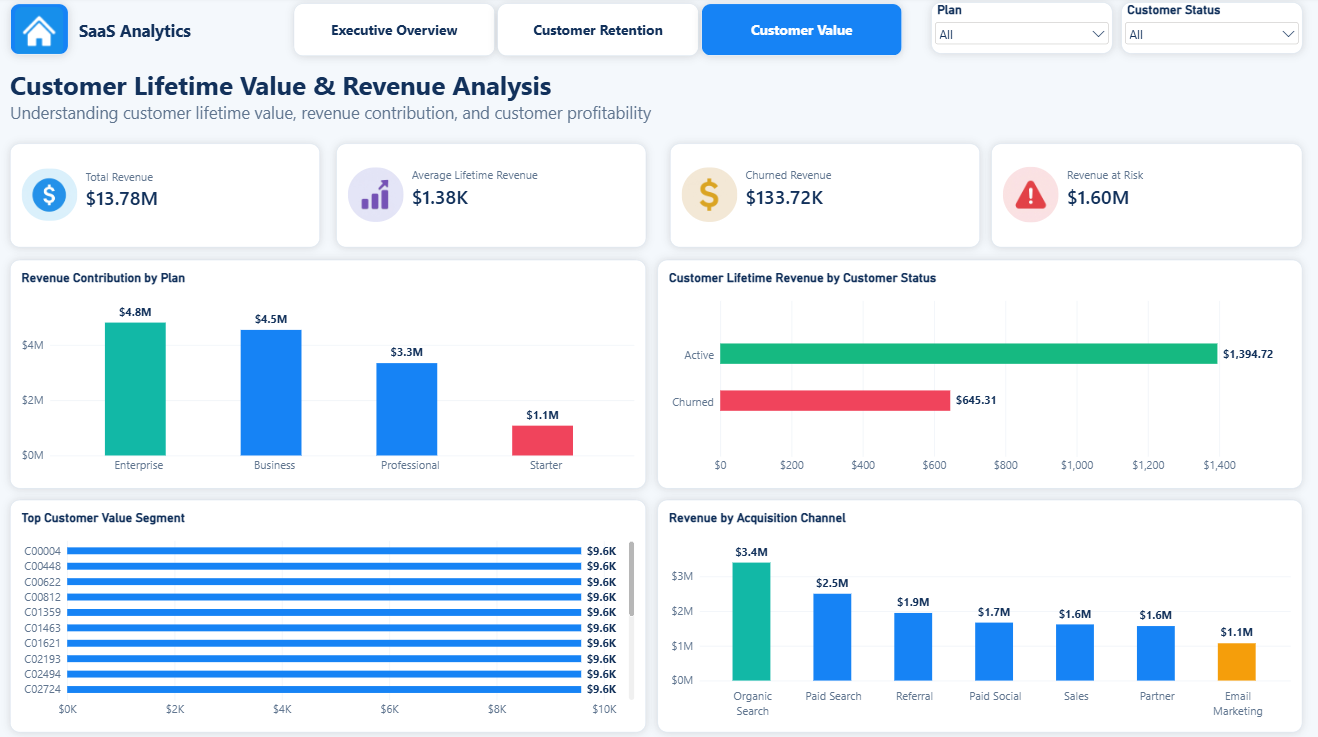

This screenshot's page, from the dashboard's own definition file:
{"tool":"powerbi","page":{"name":"Customer Value","canvas":[1920,1080],"ordinal":3},"visuals":[{"type":"textbox","box":[21.7,103.2,1871.2,94.1],"z":0},{"type":"cardVisual","fields":{"Data":["measures_table.Total Revenue"]},"box":[21.7,213.5,448.8,150.2],"z":1000},{"type":"cardVisual","fields":{"Data":["measures_table.Average Lifetime Revenue"]},"box":[494,213.5,448.8,150.2],"z":2000},{"type":"cardVisual","fields":{"Data":["measures_table.Churned Revenue"]},"box":[977.2,213.5,448.8,150.2],"z":3000},{"type":"cardVisual","fields":{"Data":["measures_table.Revenue at Risk"]},"box":[1442.3,213.5,450.6,150.2],"z":4000},{"type":"clusteredColumnChart","title":"Revenue Contribution by Plan","fields":{"Category":["dim_plan.plan_name"],"Y":["measures_table.Total Revenue"]},"box":[21.7,381.8,921.1,331.2],"z":5000},{"type":"clusteredBarChart","title":"Customer Lifetime Revenue by Customer Status","fields":{"Category":["dim_customer.customer_status"],"Y":["measures_table.Average Lifetime Revenue"]},"box":[959.1,381.8,933.8,331.2],"z":6000},{"type":"clusteredBarChart","title":"Top Customer Value Segment","fields":{"Category":["dim_customer.customer_id"],"Y":["measures_table.Total Lifetime Revenue"]},"box":[21.7,729.3,921.1,336.6],"z":7000},{"type":"clusteredColumnChart","title":"Revenue by Acquisition Channel","fields":{"Category":["dim_customer.acquisition_channel"],"Y":["measures_table.Total Revenue"]},"box":[959.1,729.3,933.8,336.6],"z":8000},{"type":"slicer","title":"Plan","fields":{"Values":["dim_customer.customer_status"]},"box":[1630.5,9,262.4,74.2],"z":9000},{"type":"slicer","title":"Plan","fields":{"Values":["dim_plan.plan_name"]},"box":[1355.4,9,262.4,74.2],"z":10000},{"type":"actionButton","box":[432.5,10.9,291.4,76],"z":11000},{"type":"actionButton","box":[727.5,10.9,291.4,76],"z":12000},{"type":"actionButton","box":[1022.5,10.9,291.4,76],"z":13000},{"type":"textbox","box":[121.2,34.4,278.7,48.9],"z":14000},{"type":"actionButton","box":[21.7,10.9,85.1,74.2],"z":15000}]}

Visuals, with their boxes on the page's 1920x1080 design canvas (x1, y1, x2, y2). These are canvas units, not pixel positions in the 1318x737 screenshot, which may show the page scaled, cropped or inside an application window:
textbox: locate(22, 103, 1893, 197)
cardVisual - measures_table.Total Revenue: locate(22, 214, 470, 364)
cardVisual - measures_table.Average Lifetime Revenue: locate(494, 214, 943, 364)
cardVisual - measures_table.Churned Revenue: locate(977, 214, 1426, 364)
cardVisual - measures_table.Revenue at Risk: locate(1442, 214, 1893, 364)
"Revenue Contribution by Plan" clusteredColumnChart: locate(22, 382, 943, 713)
"Customer Lifetime Revenue by Customer Status" clusteredBarChart: locate(959, 382, 1893, 713)
"Top Customer Value Segment" clusteredBarChart: locate(22, 729, 943, 1066)
"Revenue by Acquisition Channel" clusteredColumnChart: locate(959, 729, 1893, 1066)
"Plan" slicer: locate(1630, 9, 1893, 83)
"Plan" slicer: locate(1355, 9, 1618, 83)
actionButton: locate(432, 11, 724, 87)
actionButton: locate(728, 11, 1019, 87)
actionButton: locate(1022, 11, 1314, 87)
textbox: locate(121, 34, 400, 83)
actionButton: locate(22, 11, 107, 85)
